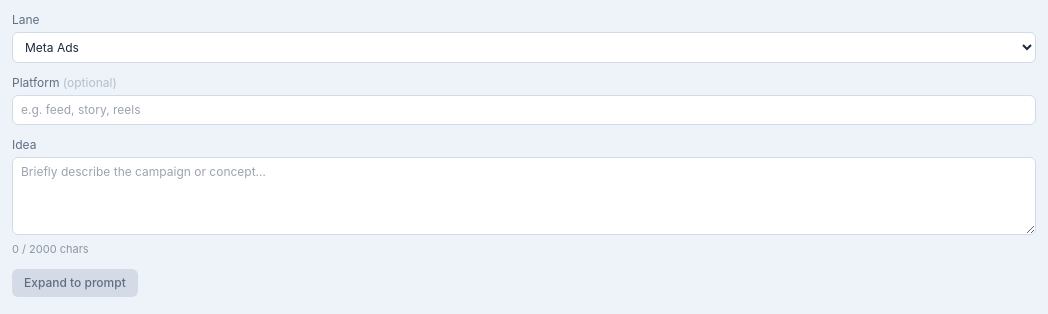
IdeaInputForm › disables submit until idea reaches 3 chars
Expected: the button "Expand to prompt" is disabled, [12,269,138,297]
In the text box with test id "idea-textarea": (524, 196) [12,157,1036,235], type "ab"
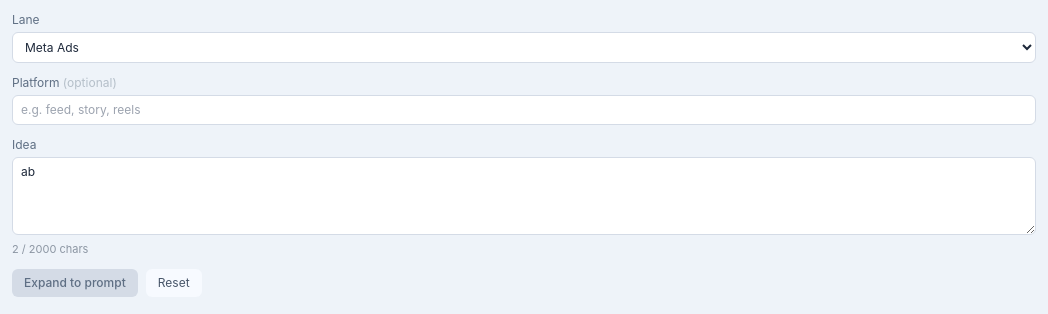
Expected: the button "Expand to prompt" is disabled, [12,269,138,297]
Replace the text in the text box with test id "idea-textarea" with "abc": (524, 196) [12,157,1036,235]
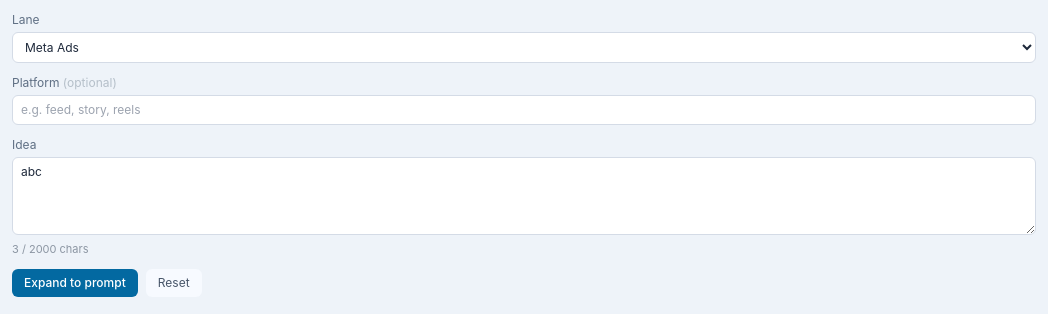
Now the button "Expand to prompt" is enabled, box [12,269,138,297]
